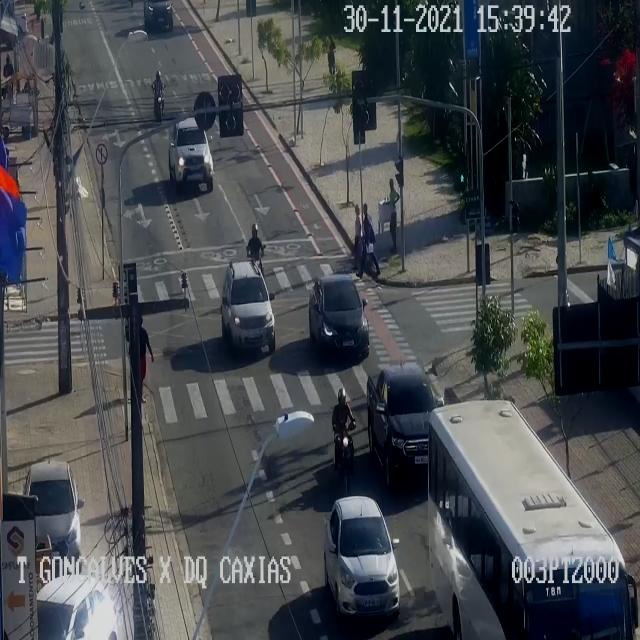Bus: (428, 397, 640, 638)
Car: (325, 493, 401, 617), (366, 367, 436, 486), (27, 461, 85, 575), (218, 260, 276, 354), (309, 277, 371, 361), (38, 575, 114, 639), (169, 119, 215, 191), (144, 0, 173, 36)
Motorcycle: (332, 385, 356, 495), (246, 224, 266, 276), (152, 72, 166, 122)
